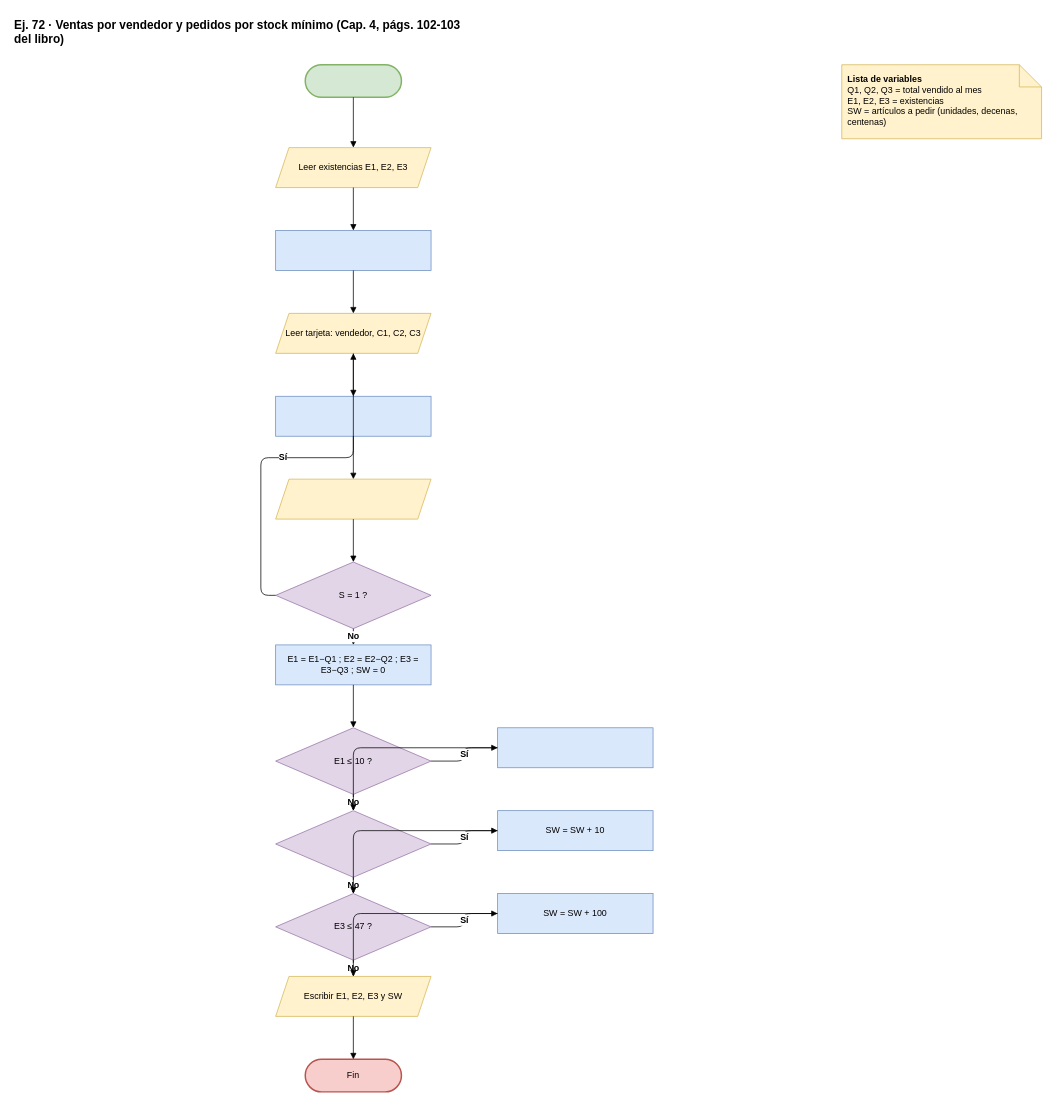
The diagram is 1055 pixels wide and 1105 high, and some of its shapes have lost their labels. Each missing label, with the box of its shape:
E2 ≤ 100 ?: (275, 810, 431, 877)
Inicio: (304, 64, 402, 98)
Leer ¿Más tarjetas? S: (275, 478, 431, 519)
Q1 = Q1 + C1 ; Q2 = Q2 + C2 ; Q3 = Q3 + C3: (275, 396, 431, 436)
Q1 = Q2 = Q3 = 0: (275, 230, 431, 270)
SW = SW + 1: (497, 727, 653, 768)
